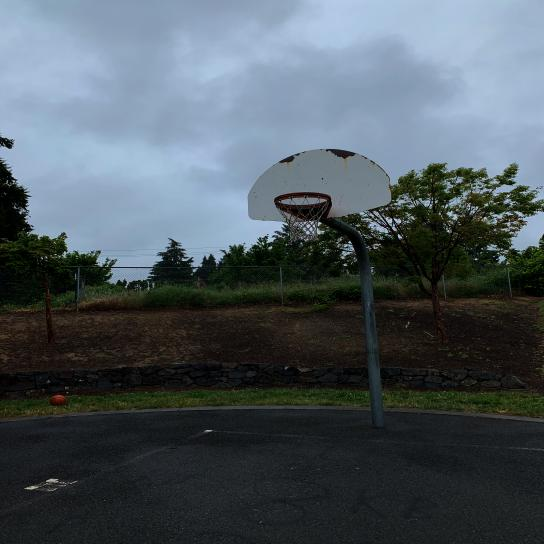basketball-hoop: (272, 191, 332, 243)
